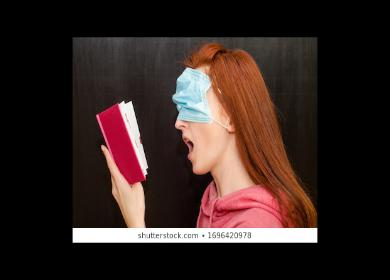mask_weared_incorrect: (172, 83, 216, 176)
